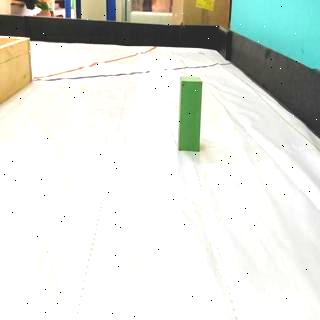greenbox: (178, 76, 202, 152)
